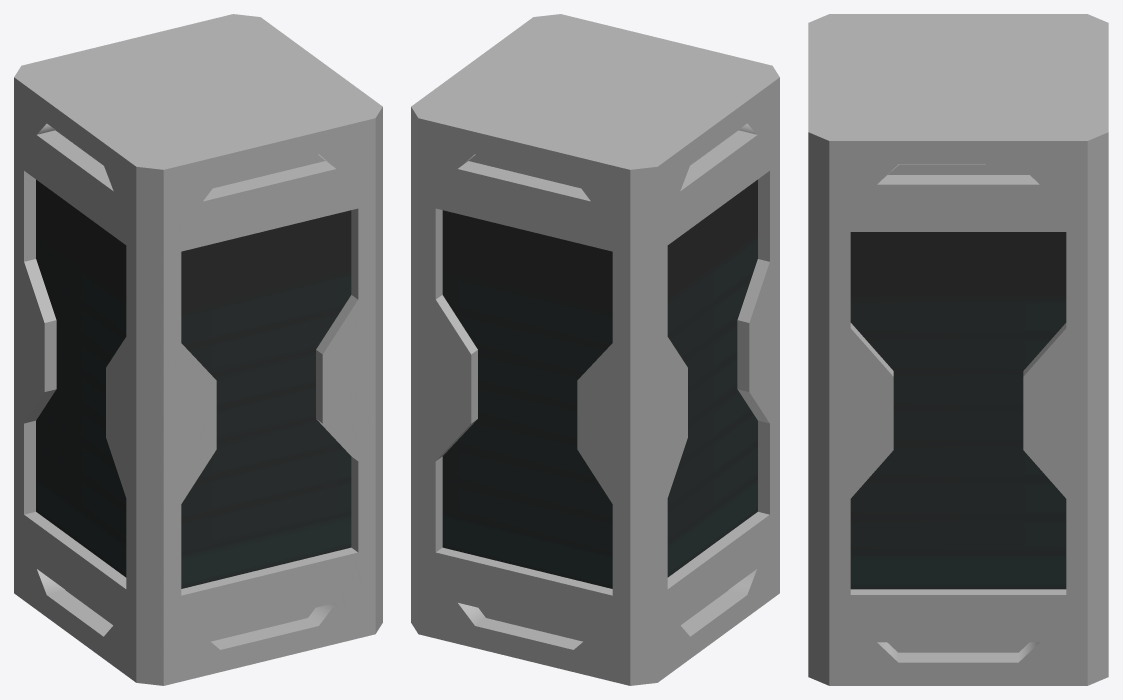
The model's file is obj_interactive_timer.fbx.
The picture shows the model from 3 angles, left to right: view 1: azimuth 30°, elevation 25°; view 2: azimuth 150°, elevation 25°; view 3: azimuth 270°, elevation 25°; orthographic projection. The views are drawn at different scales.
Visible parts, largest first — view 1: obj_interactive_timer_off_lod0, obj_interactive_timer_off_lod0.003; view 2: obj_interactive_timer_off_lod0, obj_interactive_timer_off_lod0.003; view 3: obj_interactive_timer_off_lod0, obj_interactive_timer_off_lod0.003.
Boxes of the visible parts, <box> form: obj_interactive_timer_off_lod0: <box>14,14,382,685</box>; obj_interactive_timer_off_lod0.003: <box>36,179,351,588</box>; obj_interactive_timer_off_lod0: <box>411,14,779,685</box>; obj_interactive_timer_off_lod0.003: <box>442,179,757,588</box>; obj_interactive_timer_off_lod0: <box>808,14,1108,685</box>; obj_interactive_timer_off_lod0.003: <box>850,232,1066,589</box>.
Size of the model in its own units: 1 by 2 by 1.
